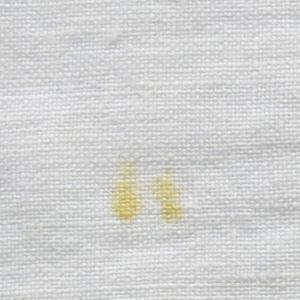Stain: (113, 148, 187, 237)
